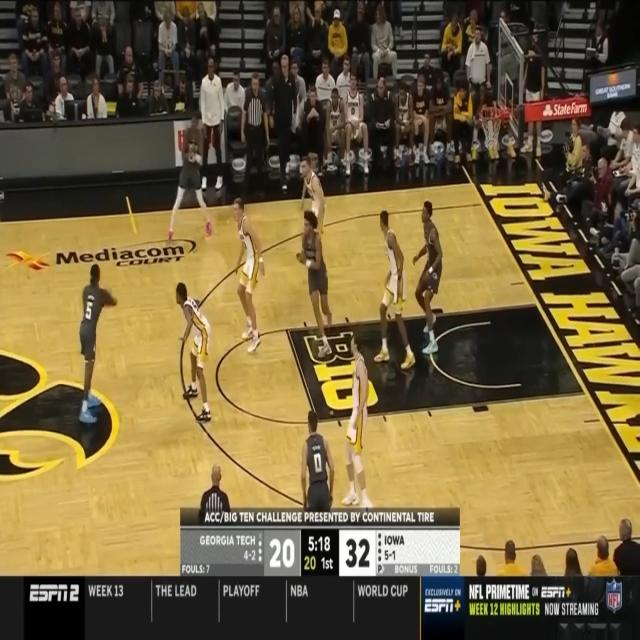Hoop: (479, 105, 503, 151)
Overlay: (0, 575, 640, 640), (180, 507, 461, 576)
Player: (373, 208, 416, 371), (79, 262, 121, 424), (166, 113, 212, 243), (294, 208, 334, 356), (175, 279, 213, 423), (342, 332, 373, 507), (232, 197, 265, 354), (412, 199, 443, 356), (300, 408, 334, 510), (299, 154, 325, 268)
Ref: (198, 464, 233, 608), (241, 72, 271, 203)
Scoreboard: (180, 530, 460, 576)
